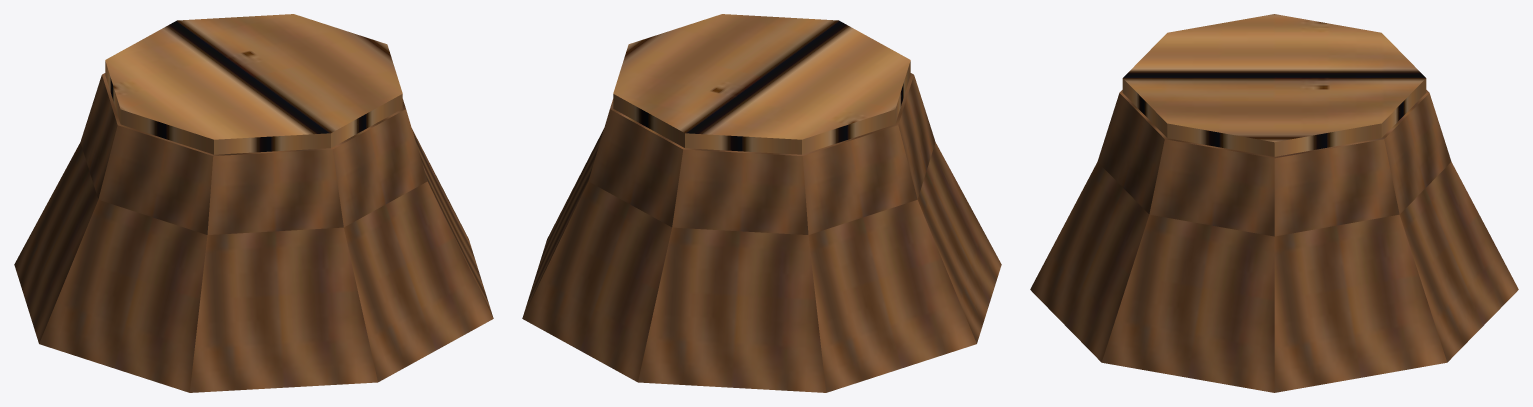
File: stump.glb
3 renders of one model, left to right at view 1: azimuth 30°, elevation 25°; view 2: azimuth 150°, elevation 25°; view 3: azimuth 270°, elevation 25°, orthographic.
Parts seen in each view (by area): view 1: stump; view 2: stump; view 3: stump.
Boxes of the visible parts, x1=… form: stump: x1=14, y1=14, x2=493, y2=392; stump: x1=522, y1=14, x2=1001, y2=392; stump: x1=1030, y1=14, x2=1518, y2=392.
Bounding box in the file's own units: 0.9004 × 0.43 × 0.9004.
Materials: 2 (2 with a texture image).
